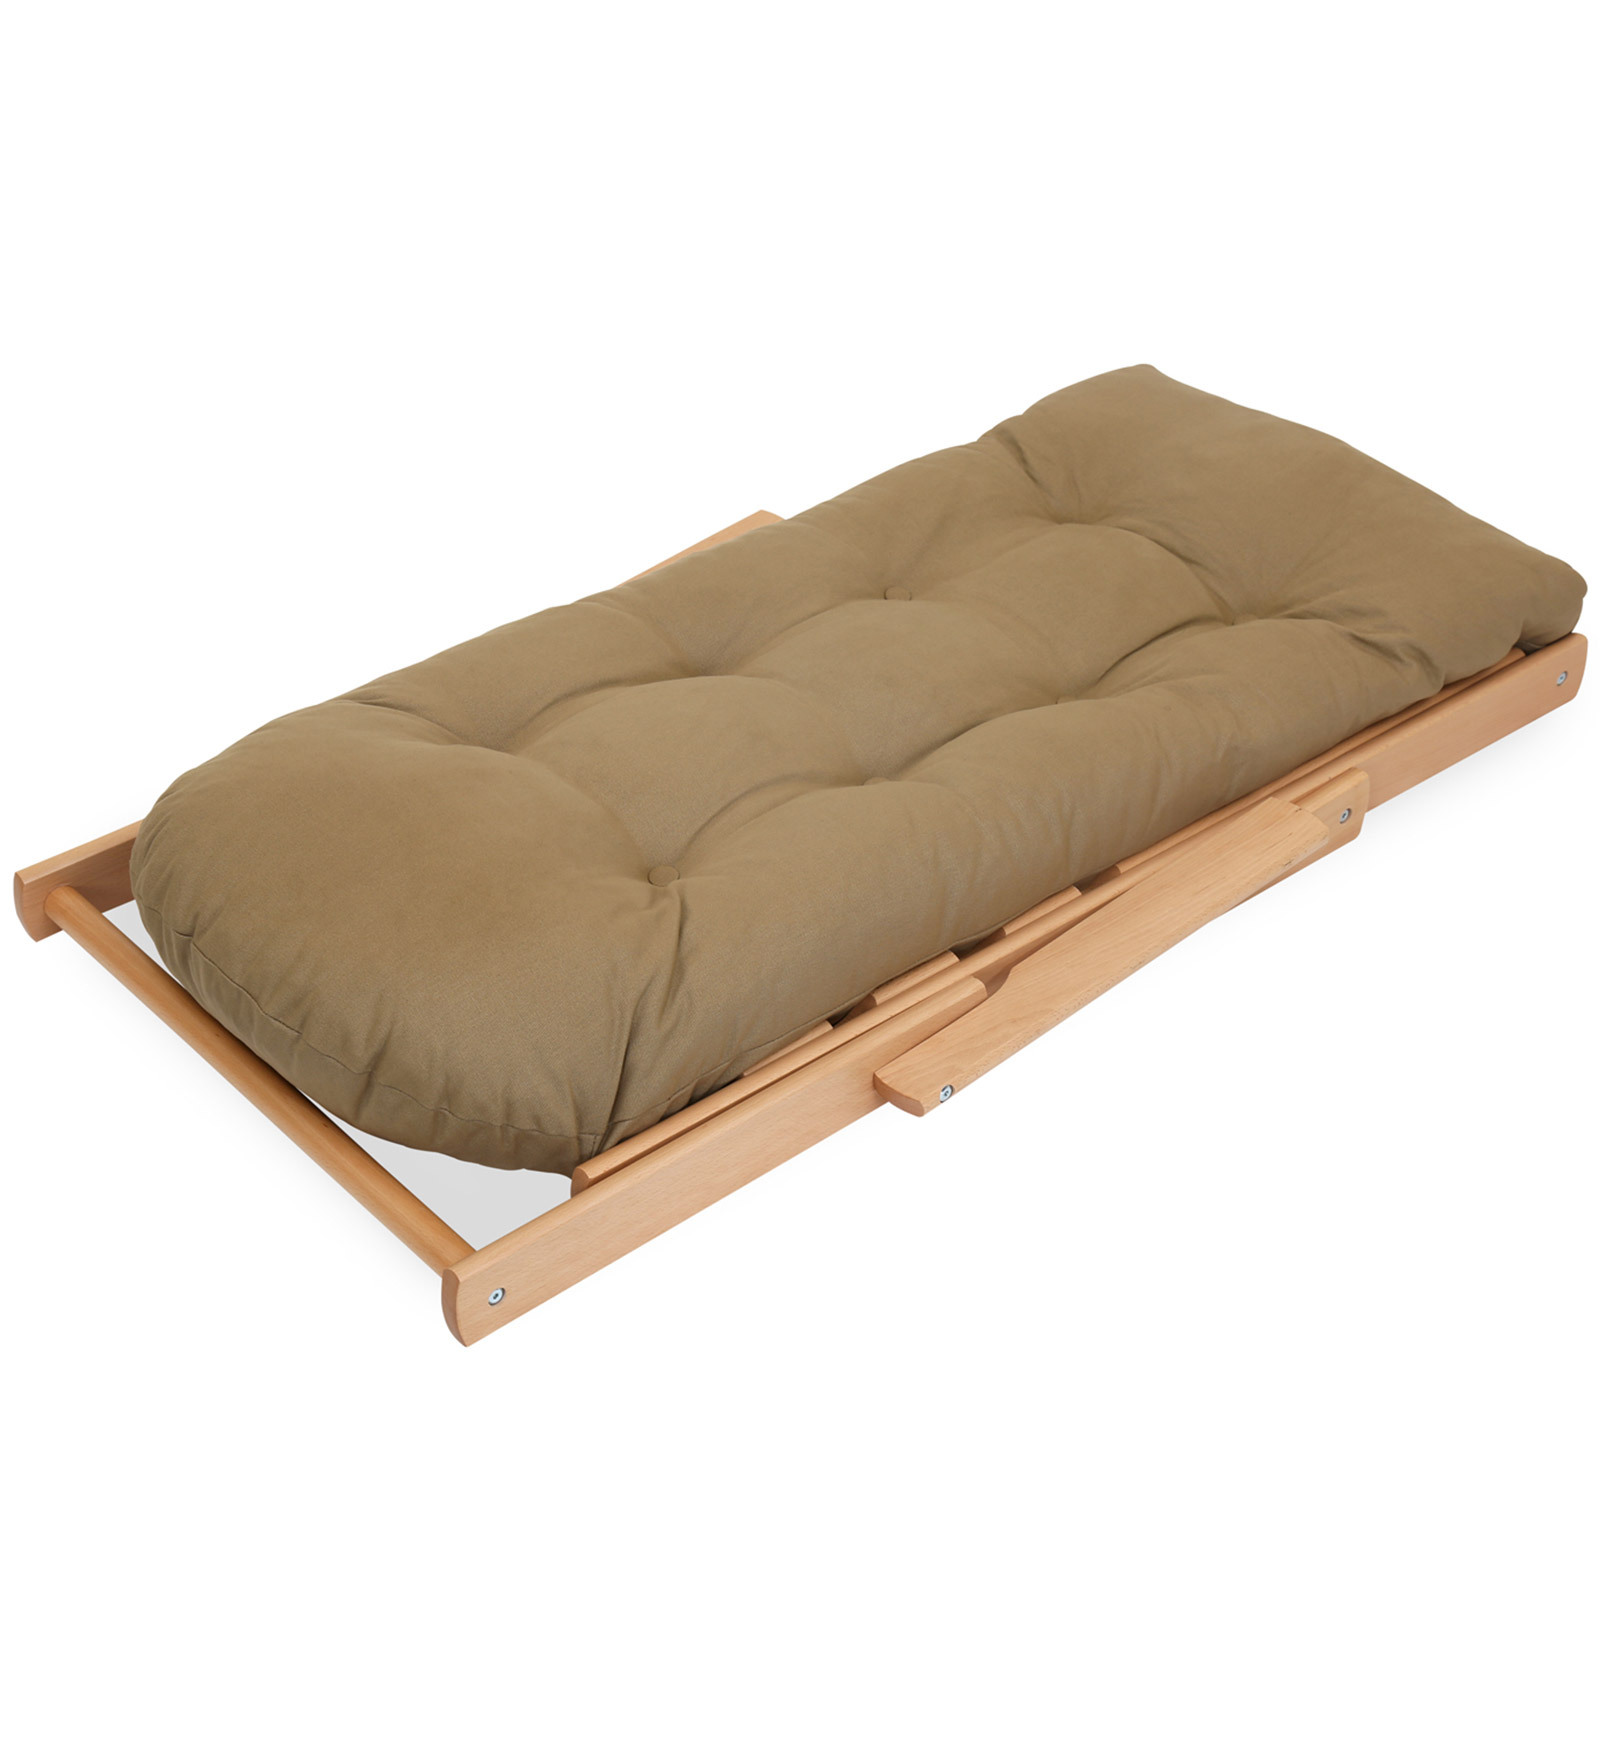Mazda Leisure Folding Chair in Light Brown Colour by @ Home: (3, 350, 1592, 1348)
